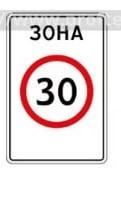road_sign: (5, 9, 113, 166)
